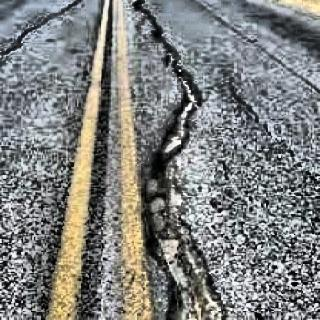crack: (123, 1, 220, 320), (3, 0, 88, 61)
